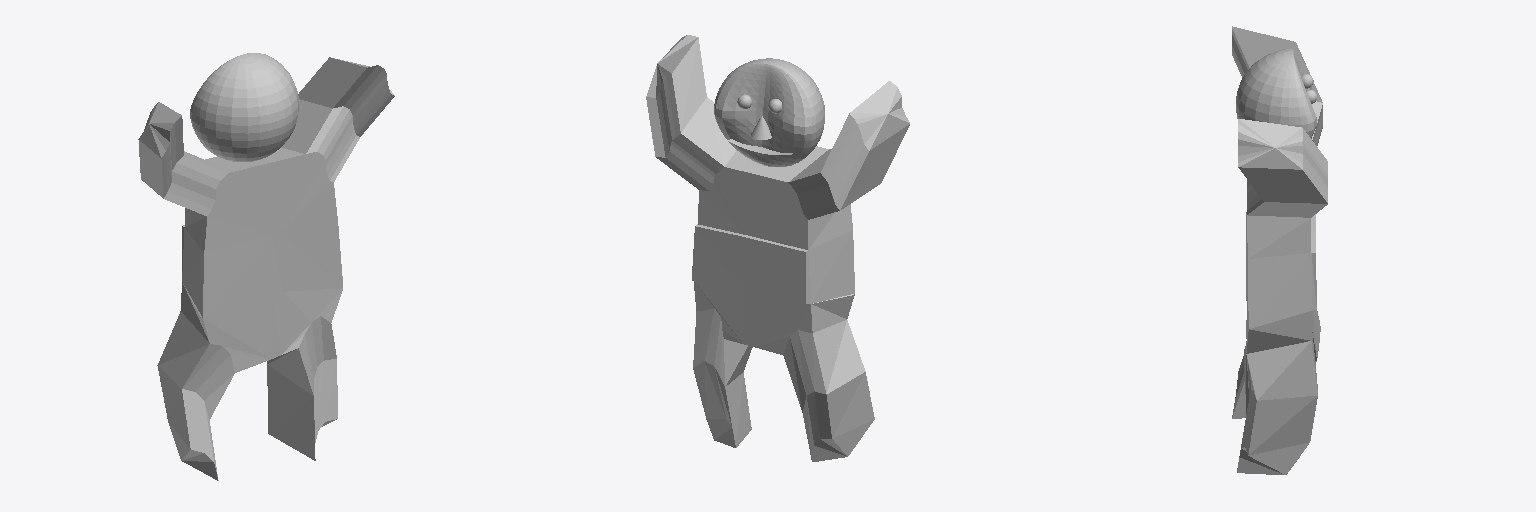
File: manjump_000002.obj
3 views of the same model, side by side, from view 1: azimuth 30°, elevation 25°; view 2: azimuth 150°, elevation 25°; view 3: azimuth 270°, elevation 25° (orthographic).
Parts seen in each view (by area): view 1: Cube; view 2: Cube; view 3: Cube.
Boxes of the visible parts, <box> form: Cube: <box>138,53,394,480</box>; Cube: <box>646,35,909,461</box>; Cube: <box>1232,26,1327,474</box>.
Size of the model in its own units: 79.65 by 128 by 28.18.